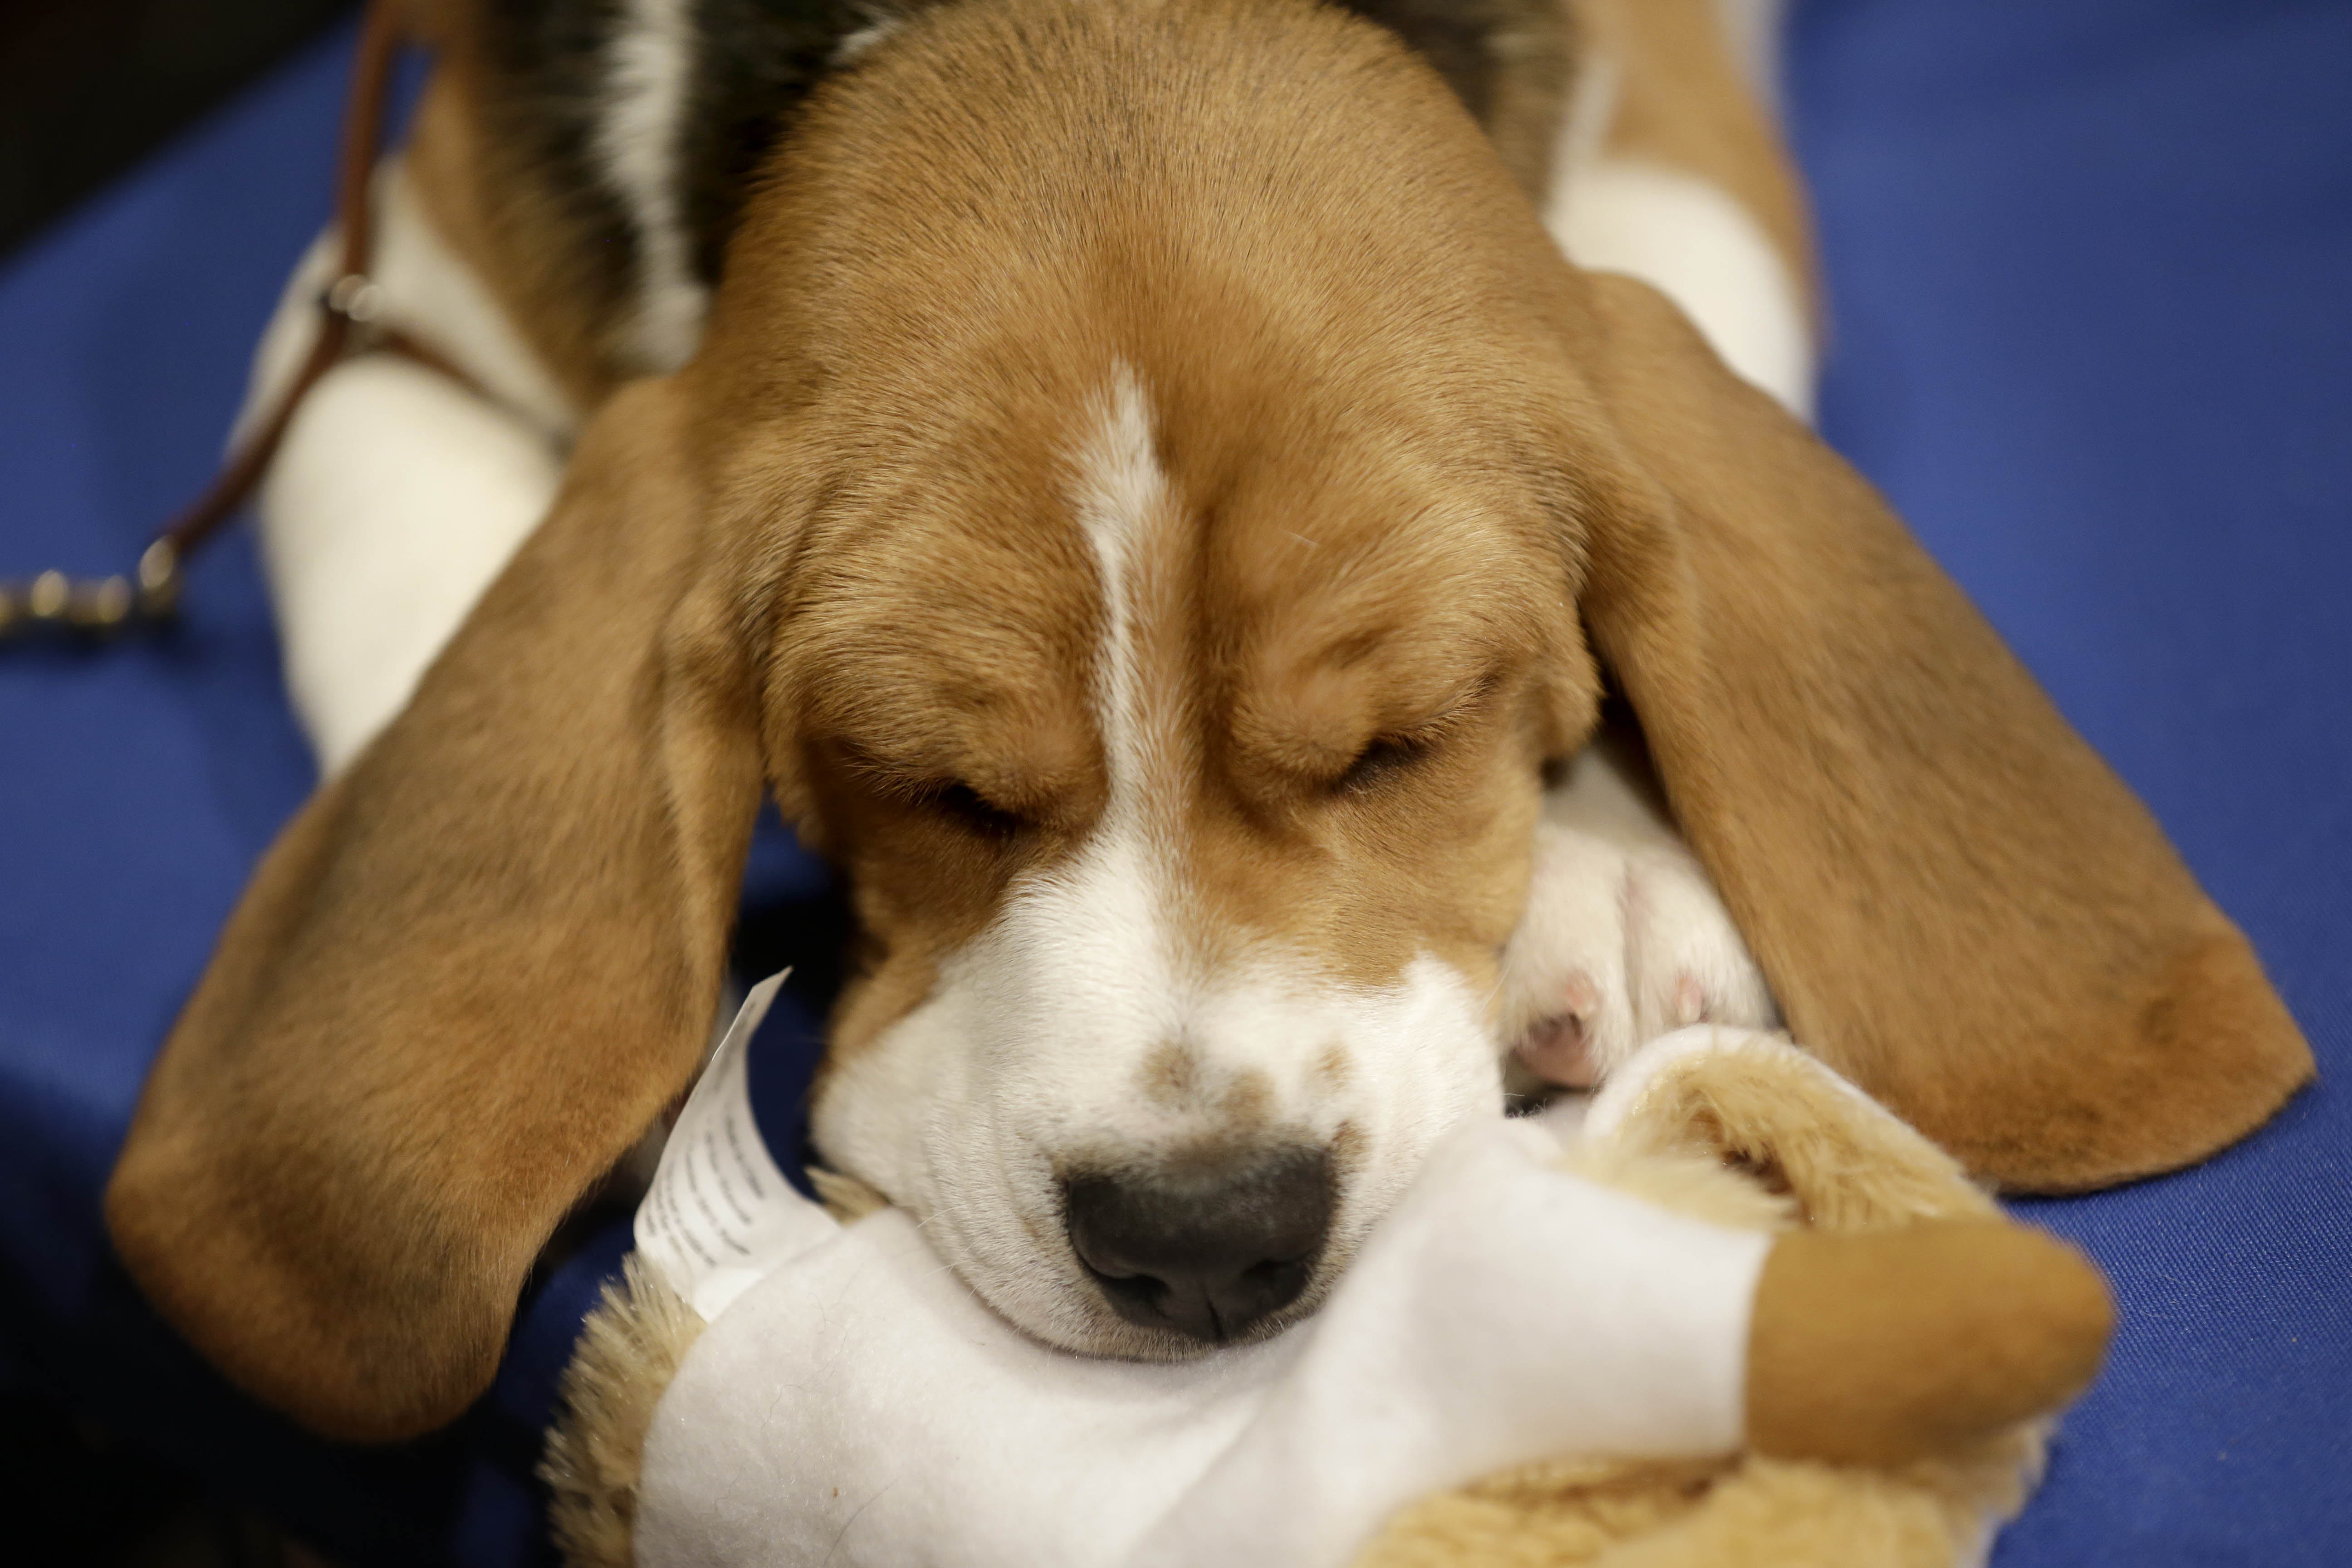dog: (213, 10, 2278, 1477)
